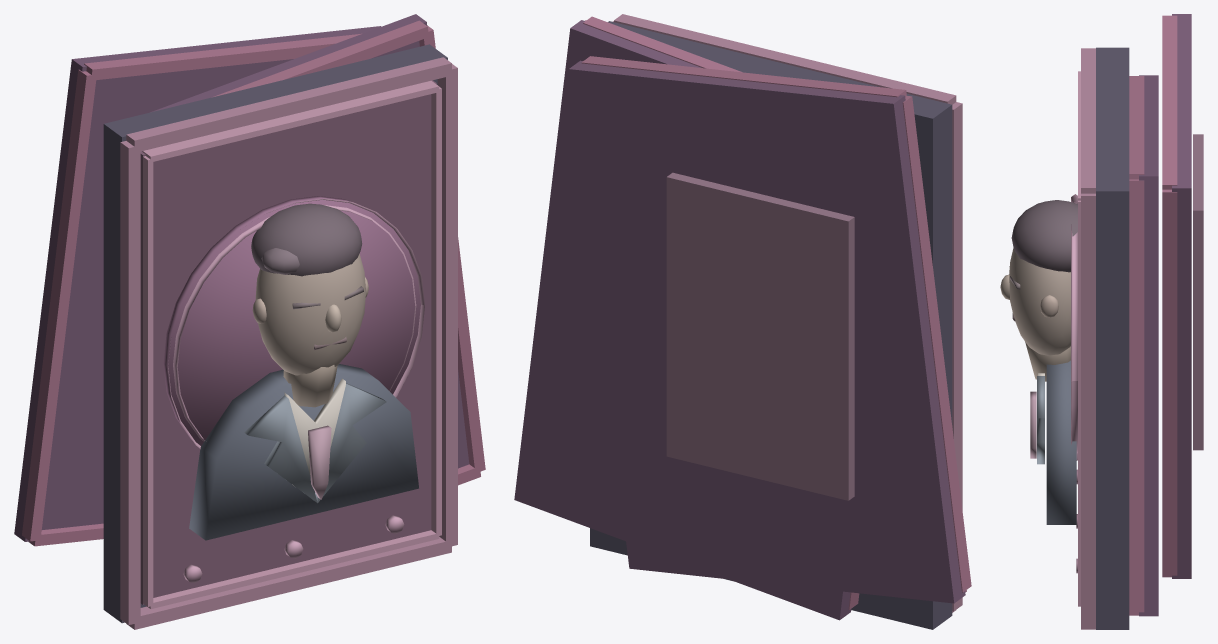
The model's file is ART-12.glb.
3 renders of one model, left to right at view 1: azimuth 30°, elevation 25°; view 2: azimuth 150°, elevation 25°; view 3: azimuth 270°, elevation 25°, orthographic. The views are drawn at different scales.
Parts seen in each view (by area): view 1: world; view 2: world; view 3: world.
Part boxes in pixels (x1,y1,x2,y2): world: [14, 14, 485, 629]; world: [514, 14, 971, 629]; world: [1000, 14, 1203, 629].
Bounding box in the file's own units: 1.74 × 2 × 0.7749.
